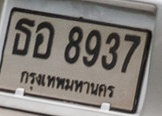txt19: (10, 17, 36, 57)
txt38: (31, 21, 56, 60)
